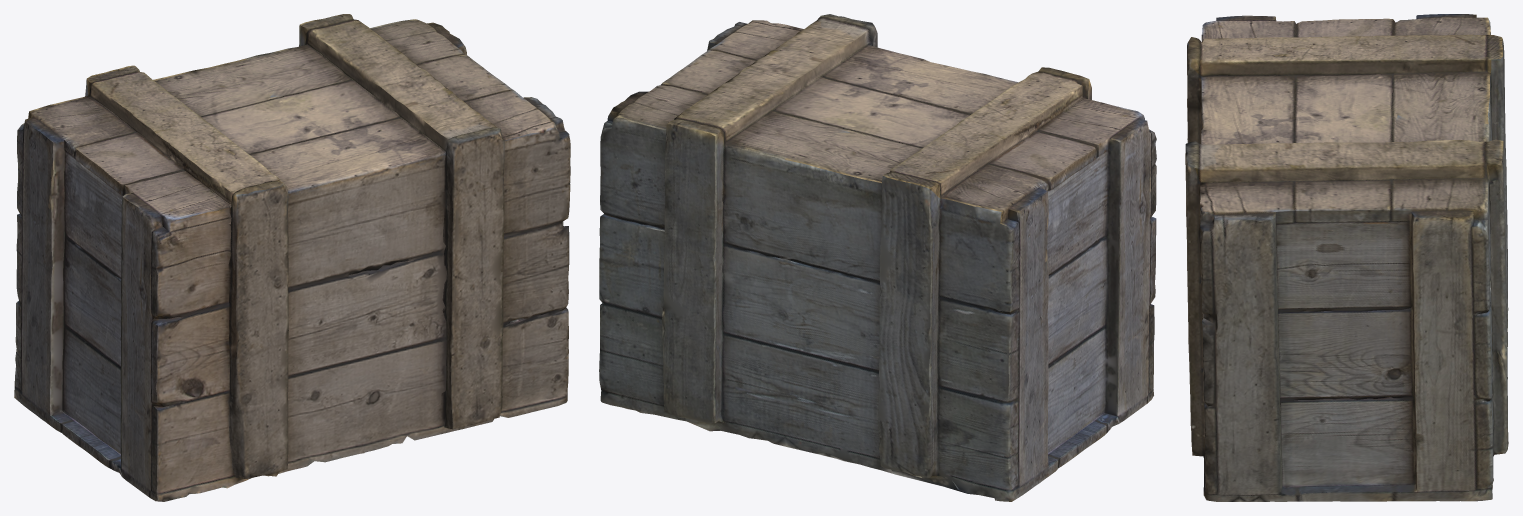
File: MOD_WoodCrateC.fbx
3 renders of one model, left to right at view 1: azimuth 30°, elevation 25°; view 2: azimuth 150°, elevation 25°; view 3: azimuth 270°, elevation 25°, orthographic.
Visible parts, largest first — view 1: MOD_WoodCrateC; view 2: MOD_WoodCrateC; view 3: MOD_WoodCrateC.
Part boxes in pixels (x1=…): MOD_WoodCrateC: x1=14, y1=14, x2=570, y2=501; MOD_WoodCrateC: x1=599, y1=14, x2=1156, y2=501; MOD_WoodCrateC: x1=1185, y1=14, x2=1508, y2=501.
Size of the model in its own units: 75.52 by 52.49 by 50.46.
